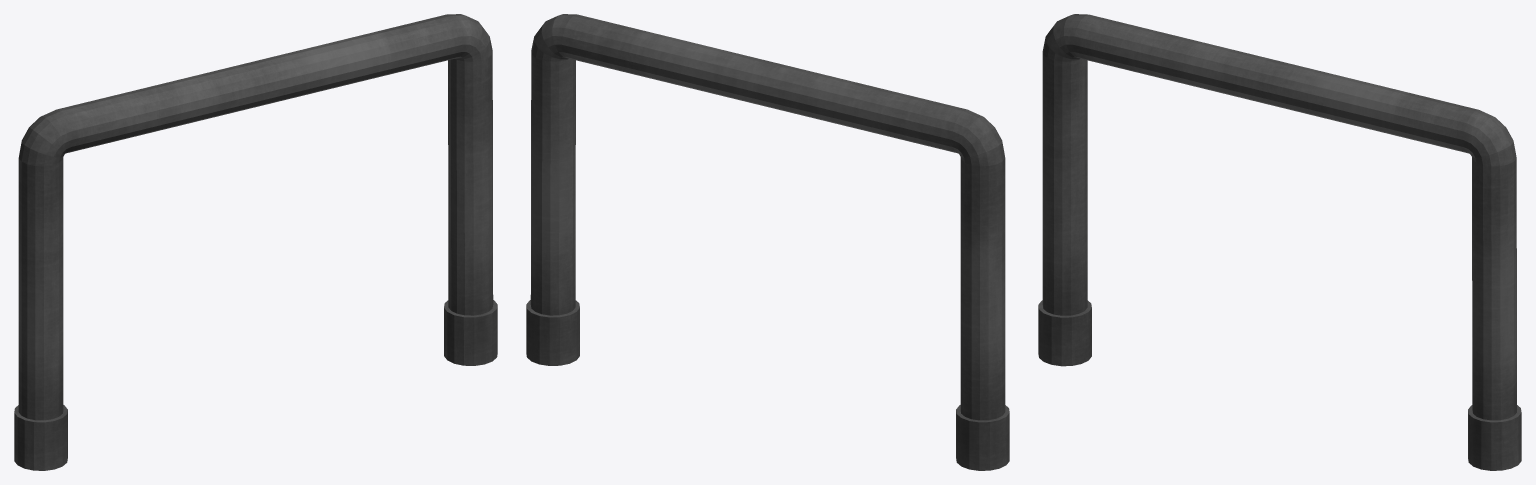
The model's file is barierkamala.obj.
The picture shows the model from 3 angles, left to right: view 1: azimuth 30°, elevation 25°; view 2: azimuth 150°, elevation 25°; view 3: azimuth 330°, elevation 25°; orthographic projection.
Visible parts, largest first — view 1: Barierka.NR3.001_Cylinder.002; view 2: Barierka.NR3.001_Cylinder.002; view 3: Barierka.NR3.001_Cylinder.002.
Part boxes in pixels (x1,y1,x2,y2): Barierka.NR3.001_Cylinder.002: [14, 14, 497, 470]; Barierka.NR3.001_Cylinder.002: [526, 14, 1009, 470]; Barierka.NR3.001_Cylinder.002: [1038, 14, 1521, 470].
Bounding box in the file's own units: 3.9 × 2.69 × 0.384.
Materials: 1 (1 with a texture image).
